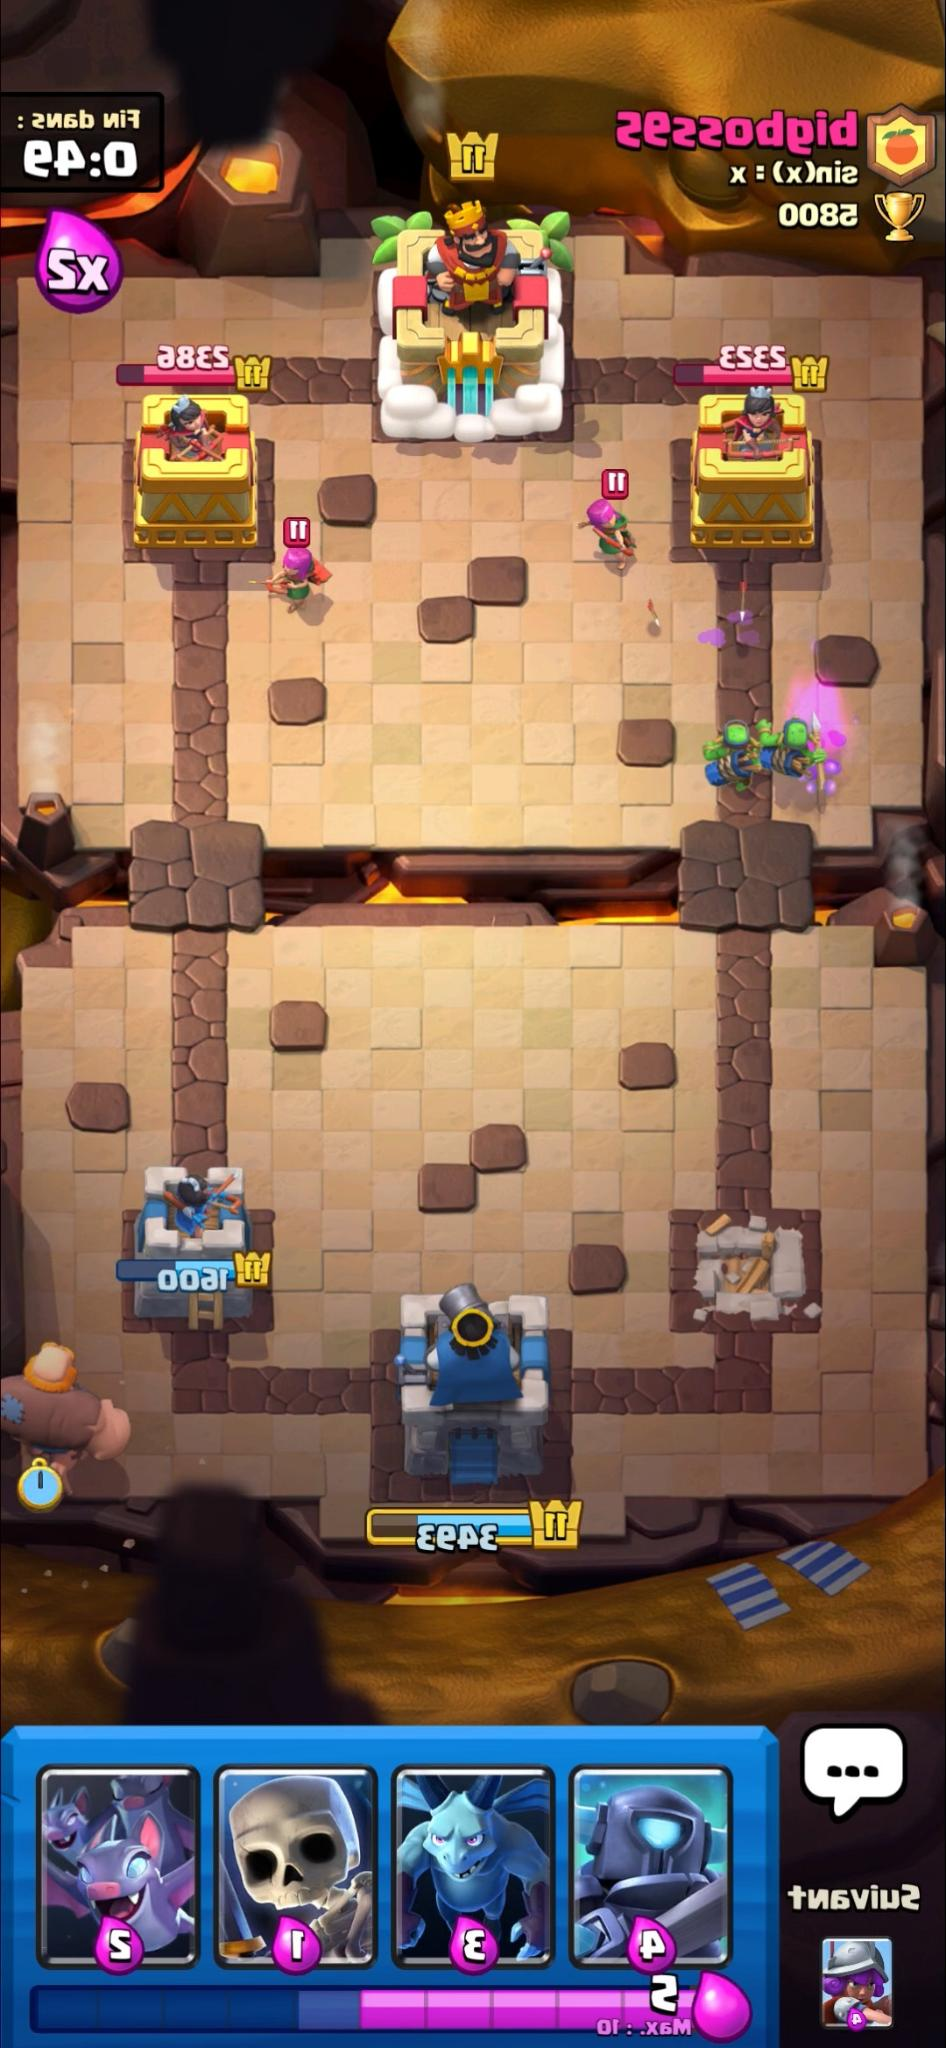archere: (247, 547, 329, 620), (578, 498, 635, 572)
geant: (5, 1343, 133, 1473)
gobelin_lances: (696, 711, 770, 790), (751, 713, 828, 785)
